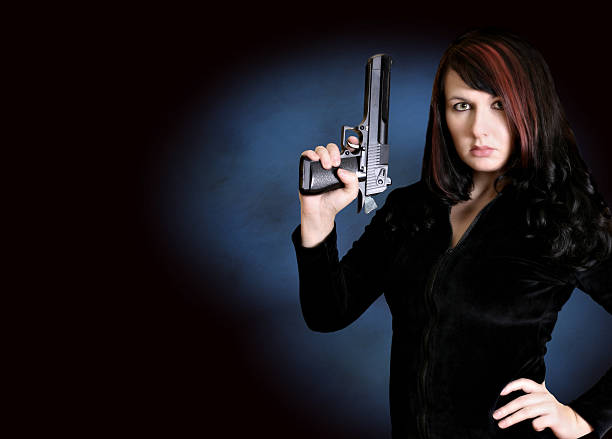gun: (296, 51, 391, 215)
